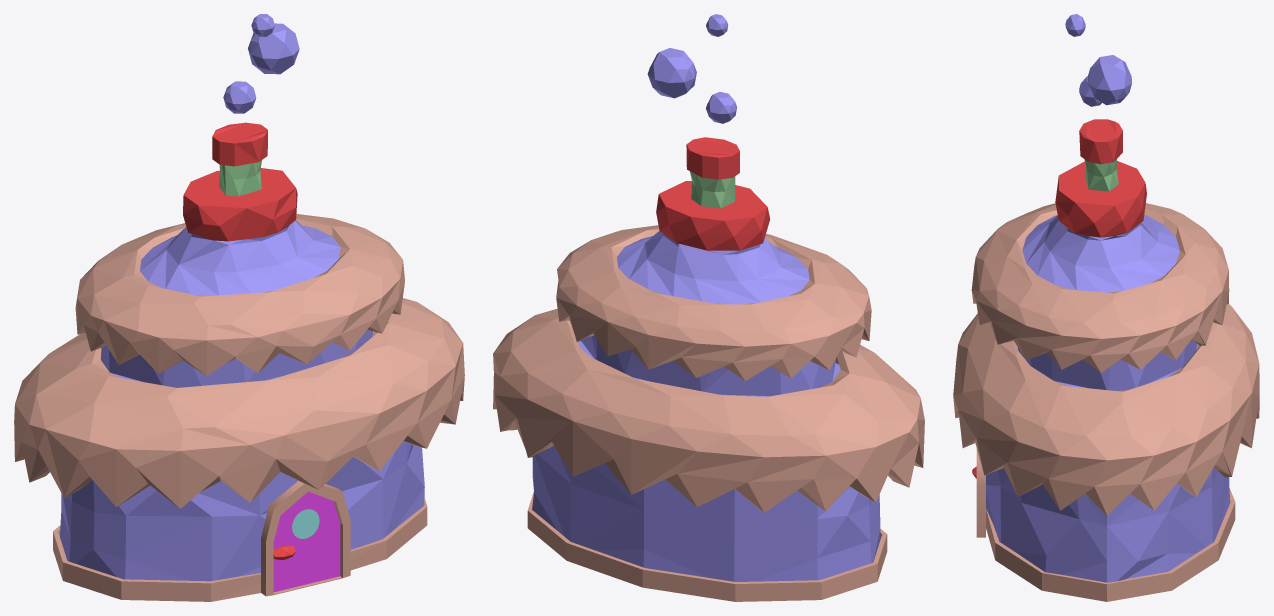
The model's file is Maison1.FBX.
3 renders of one model, left to right at view 1: azimuth 30°, elevation 25°; view 2: azimuth 150°, elevation 25°; view 3: azimuth 270°, elevation 25°, orthographic. The views are drawn at different scales.
Parts seen in each view (by area): view 1: Cylinder050; view 2: Cylinder050; view 3: Cylinder050.
Part boxes in pixels (<box>): Cylinder050: <box>14,14,464,601</box>; Cylinder050: <box>493,14,924,601</box>; Cylinder050: <box>953,14,1259,601</box>.
Size of the model in its own units: 8.78 by 10.6 by 5.82.
